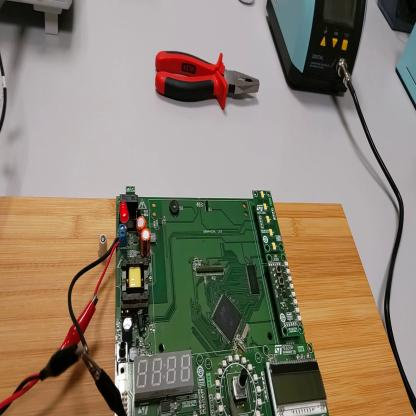low voltage board: (69, 185, 330, 415)
oscilloscope: (21, 1, 74, 36)
oscilloscope probe tip: (229, 399, 240, 416)
pliers: (156, 50, 261, 111)
socket: (377, 3, 416, 32)
welder base: (395, 22, 416, 109)
welder station: (267, 1, 369, 98)
working area: (2, 197, 416, 415)
